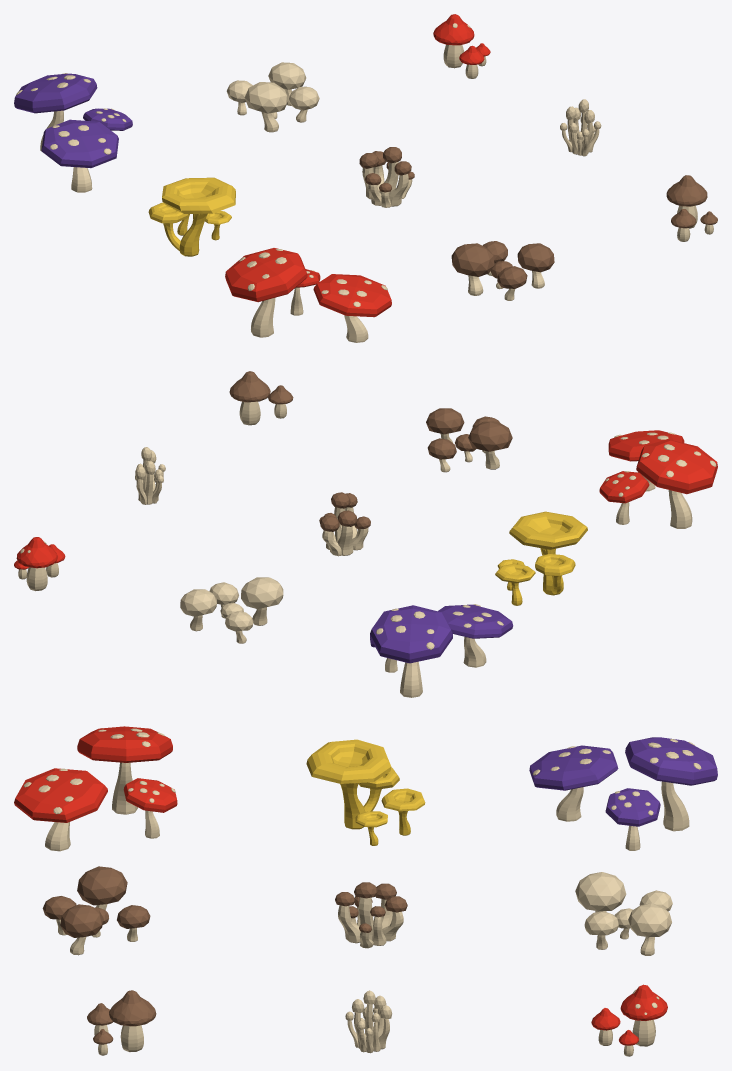
Rendered from Mushrooms.fbx.
3 renders of one model, top to bottom at view 1: azimuth 30°, elevation 25°; view 2: azimuth 150°, elevation 25°; view 3: azimuth 270°, elevation 25°, orthographic. The views are drawn at different scales.
Visible parts, largest first — view 1: Cube.013, Cube.021, Cube.014, Cube.016, Cube.017, Cube.019, Cube.022, Cube.015, Cube.018; view 2: Cube.021, Cube.013, Cube.014, Cube.017, Cube.016, Cube.019, Cube.015, Cube.022, Cube.018; view 3: Cube.021, Cube.013, Cube.014, Cube.017, Cube.016, Cube.019, Cube.022, Cube.015, Cube.018.
Part boxes in pixels (bbox=[...]): Cube.013: bbox=[225, 248, 391, 342]; Cube.021: bbox=[14, 73, 132, 192]; Cube.014: bbox=[148, 177, 235, 256]; Cube.016: bbox=[451, 241, 554, 300]; Cube.017: bbox=[226, 62, 319, 132]; Cube.019: bbox=[359, 147, 414, 207]; Cube.022: bbox=[433, 14, 490, 78]; Cube.015: bbox=[666, 175, 717, 241]; Cube.018: bbox=[560, 99, 601, 156]; Cube.021: bbox=[370, 604, 513, 697]; Cube.013: bbox=[599, 430, 717, 528]; Cube.014: bbox=[495, 511, 587, 605]; Cube.017: bbox=[180, 577, 283, 643]; Cube.016: bbox=[426, 408, 512, 472]; Cube.019: bbox=[319, 492, 370, 556]; Cube.015: bbox=[229, 371, 293, 425]; Cube.022: bbox=[14, 537, 65, 591]; Cube.018: bbox=[135, 447, 165, 504]; Cube.021: bbox=[529, 737, 717, 850]; Cube.013: bbox=[14, 726, 177, 851]; Cube.014: bbox=[306, 739, 425, 845]; Cube.017: bbox=[575, 872, 672, 955]; Cube.016: bbox=[42, 866, 150, 955]; Cube.019: bbox=[335, 882, 407, 948]; Cube.022: bbox=[591, 984, 667, 1056]; Cube.015: bbox=[87, 990, 156, 1055]; Cube.018: bbox=[345, 990, 392, 1053].
Size of the model in its own units: 246 by 36.29 by 274.
